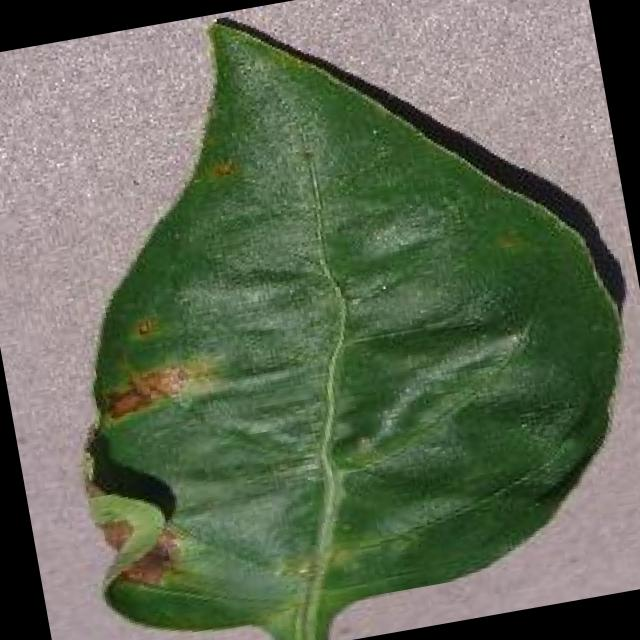Chilli_Bacterial_Spot: (0, 0, 640, 640), (49, 300, 256, 600), (66, 409, 194, 601), (90, 350, 224, 428), (106, 520, 191, 595), (96, 380, 154, 424), (484, 221, 529, 260), (202, 149, 242, 185), (126, 310, 163, 343)
